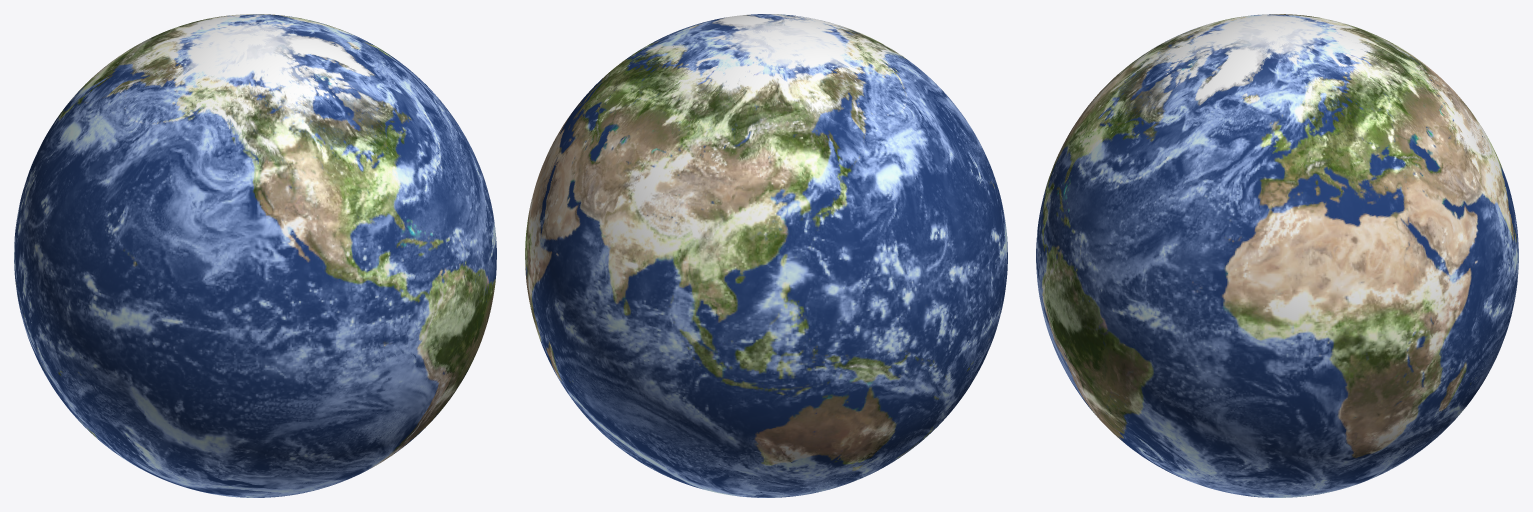
File: earth.glb
The picture shows the model from 3 angles, left to right: view 1: azimuth 30°, elevation 25°; view 2: azimuth 150°, elevation 25°; view 3: azimuth 270°, elevation 25°; orthographic projection.
Parts seen in each view (by area): view 1: Earth_Sphere.002; view 2: Earth_Sphere.002; view 3: Earth_Sphere.002.
Boxes of the visible parts, bbox=[...] form: Earth_Sphere.002: bbox=[14, 14, 496, 497]; Earth_Sphere.002: bbox=[525, 14, 1007, 497]; Earth_Sphere.002: bbox=[1036, 14, 1518, 497].
Size of the model in its own units: 1.65 by 1.66 by 1.65.
1 material, 1 textured.
